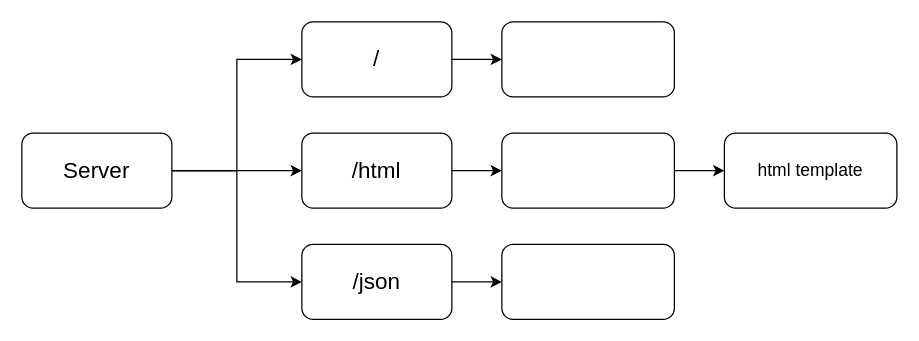
The diagram is 919 pixels wide and 341 high, and some of its shapes have lost their labels. Each missing label, with the centre of its shape:
"htmlHandler func" goes at pixel 587 170.
"jsonHandler func" goes at pixel 587 281.
"slashHandler func" goes at pixel 587 59.
